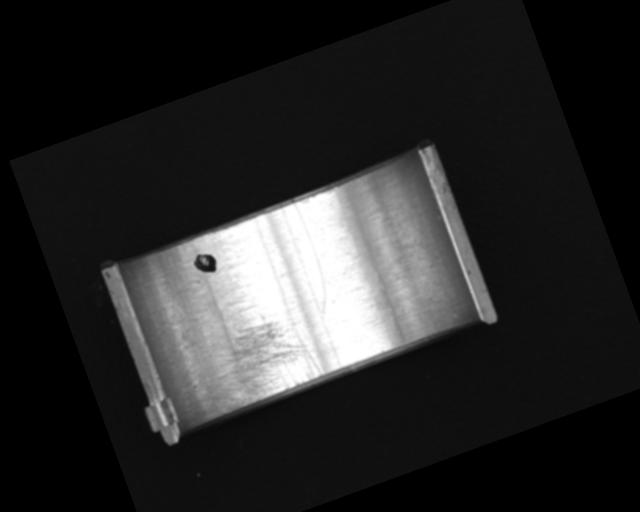blot: (189, 248, 221, 279)
nick: (281, 198, 337, 316)
scratch: (193, 299, 324, 415)
